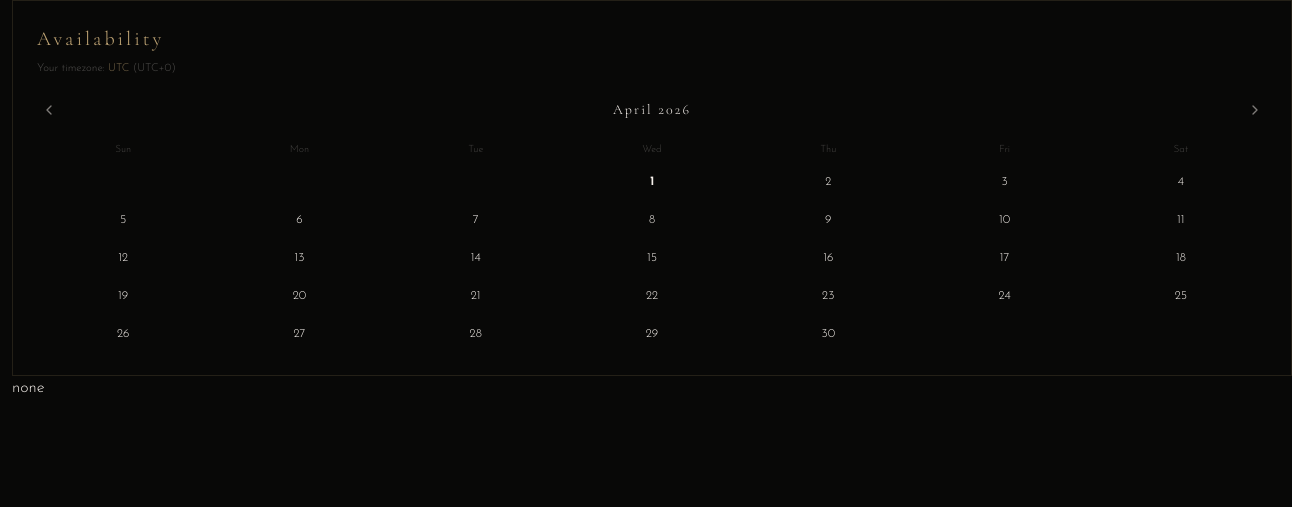
TalentAvailability › selects a time slot when clicked
Click the button "1": (652, 182) [566,164,738,198]
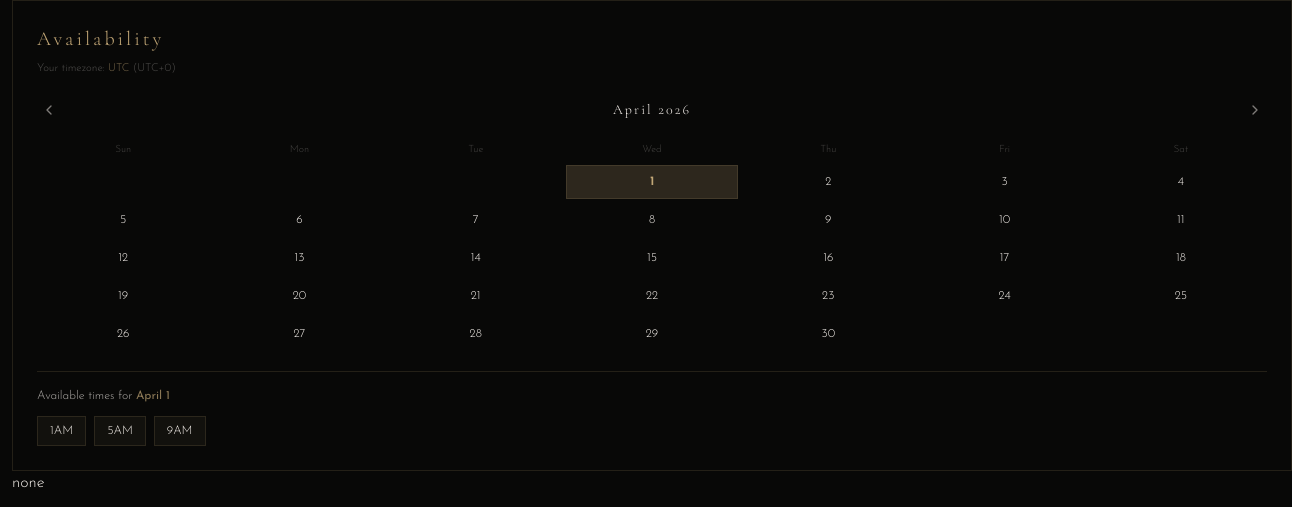
Expected: the button "1AM" is shown
Click the button "1AM": (62, 430) [37,416,86,446]
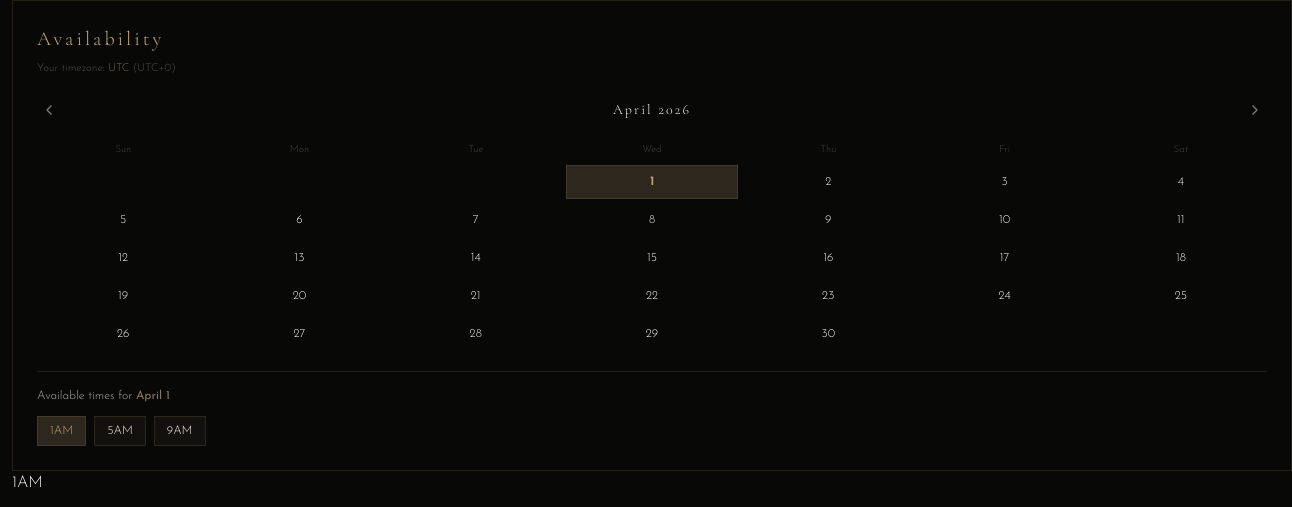
Expected: the text with test id "selected-time" no longer shows "none", [12,474,43,490]
